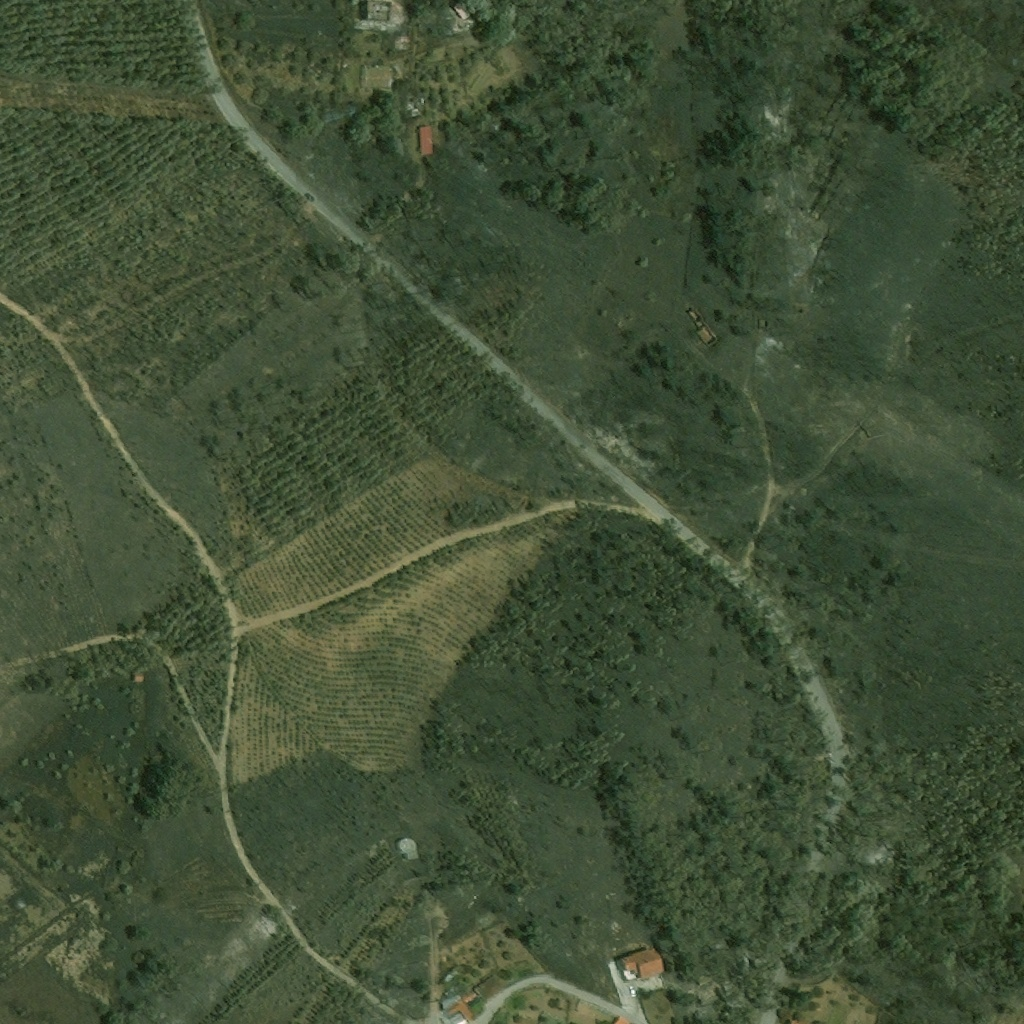0 no-damage: (616, 946, 665, 982), (362, 0, 410, 24), (448, 987, 478, 1023), (358, 65, 398, 91), (473, 974, 503, 1003), (416, 127, 435, 154), (396, 838, 416, 858), (451, 2, 471, 21), (438, 971, 457, 989), (438, 992, 457, 1009), (407, 96, 420, 114), (458, 20, 474, 30), (396, 37, 409, 48)
2 major-damage: (686, 309, 716, 348)
4 un-classified: (692, 963, 715, 987)
